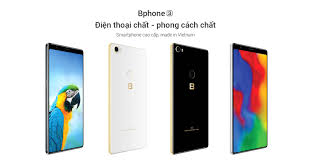bphone: (105, 41, 152, 156), (43, 38, 90, 153), (165, 40, 212, 155), (224, 40, 271, 155)
